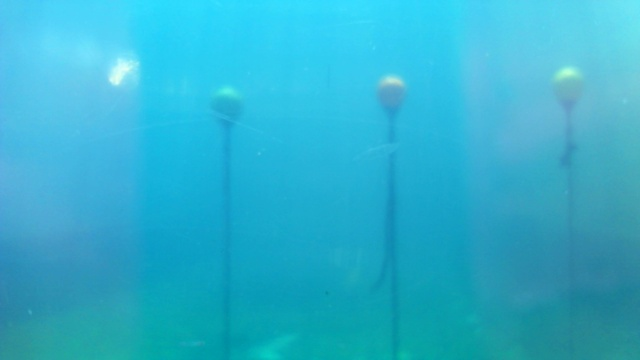buoy_green: (211, 85, 244, 126)
buoy_red: (553, 66, 581, 105), (376, 77, 403, 111)
